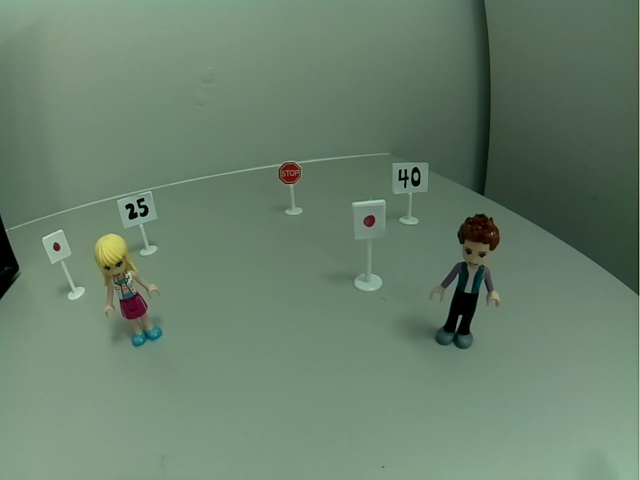people: (428, 213, 503, 352), (93, 232, 164, 350)
red light: (350, 197, 388, 242), (39, 229, 73, 265)
speed 25: (116, 189, 160, 229)
speed 40: (390, 160, 431, 196)
stop: (276, 160, 304, 186)
